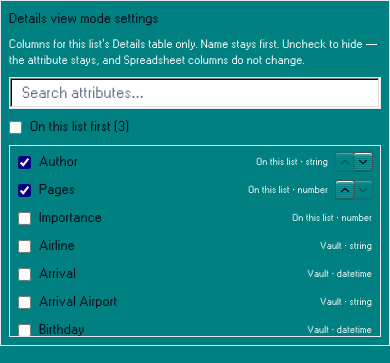
Test case: DetailsViewSettings › searches attributes
This screenshot has width=390, height=363.
Type "year" into the field named "Search details columns" at (195, 93), box [9,77,381,109]
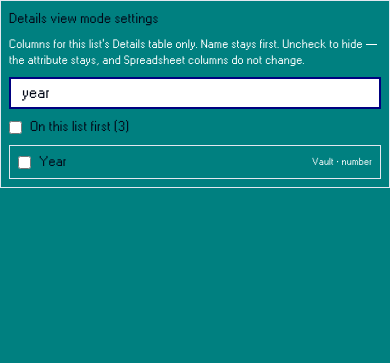
Now the checkbox named "Year column" is shown, box [18,156,31,168]
